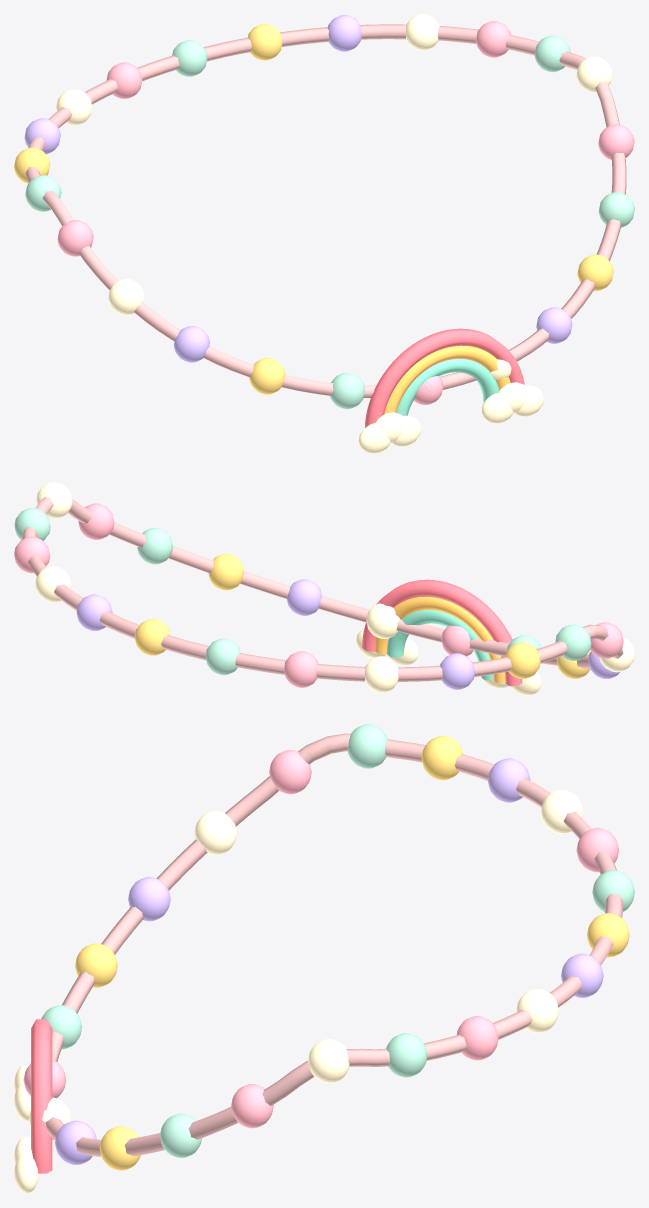
File: rainbow_chain.glb
3 renders of one model, top to bottom at view 1: azimuth 30°, elevation 25°; view 2: azimuth 150°, elevation 25°; view 3: azimuth 270°, elevation 25°, orthographic. The views are drawn at different scales.
Visible parts, largest first — view 1: After Rain Necklace; view 2: After Rain Necklace; view 3: After Rain Necklace.
Part boxes in pixels (box(x1,y1,x2,y2)): After Rain Necklace: box(14, 14, 634, 453); After Rain Necklace: box(14, 482, 634, 695); After Rain Necklace: box(14, 724, 634, 1193).
Bounding box in the file's own units: 1 × 0.369 × 0.7869.
